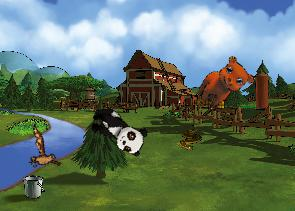bear: (191, 50, 258, 121)
eagle: (12, 123, 71, 180)
panda: (84, 102, 151, 159)
